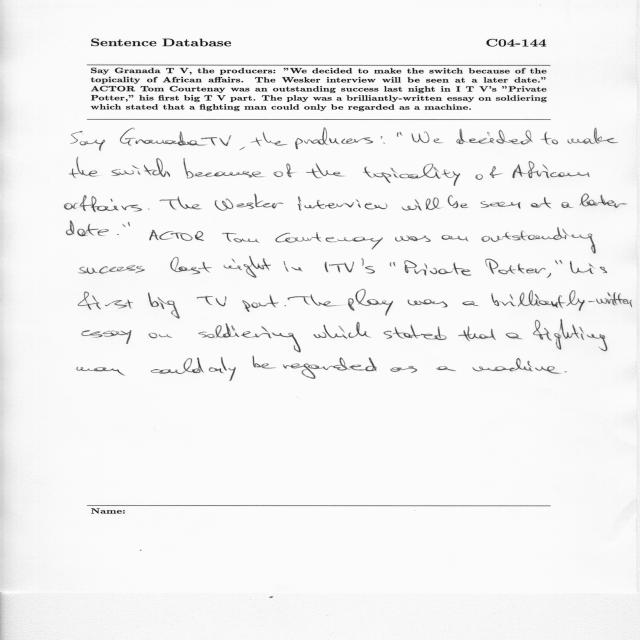word: (481, 227, 596, 254), (198, 323, 301, 353), (491, 290, 632, 311), (533, 319, 607, 351), (363, 163, 460, 186), (283, 357, 377, 379), (275, 232, 383, 249), (120, 128, 217, 146), (295, 128, 373, 149), (183, 158, 264, 178), (472, 358, 561, 374), (298, 196, 388, 211), (64, 195, 142, 212), (513, 161, 590, 178), (485, 259, 551, 278), (457, 129, 533, 145), (348, 289, 393, 316), (215, 194, 284, 211), (112, 158, 170, 177), (325, 258, 392, 274), (405, 260, 472, 276), (224, 256, 271, 278), (78, 292, 133, 310), (314, 322, 372, 339), (383, 325, 447, 340), (151, 357, 204, 374), (148, 293, 180, 319), (568, 128, 618, 144), (170, 257, 212, 274), (82, 330, 132, 344), (71, 131, 105, 151), (242, 294, 279, 312), (149, 229, 204, 241), (580, 194, 627, 208), (288, 294, 338, 307), (209, 357, 236, 381), (66, 221, 109, 236), (79, 265, 145, 274), (70, 157, 98, 178), (306, 164, 345, 179), (458, 326, 496, 341), (159, 197, 201, 210), (402, 198, 441, 211), (570, 261, 607, 274), (219, 135, 245, 150), (77, 367, 125, 375), (222, 233, 260, 243), (476, 166, 503, 180), (407, 299, 448, 308), (262, 132, 288, 146), (412, 132, 442, 143), (481, 201, 521, 209), (253, 356, 276, 369), (274, 164, 295, 178), (197, 296, 226, 306), (448, 195, 468, 208), (395, 235, 431, 242), (541, 132, 558, 145), (531, 197, 551, 208), (283, 261, 303, 272), (391, 366, 418, 373), (442, 235, 469, 241), (149, 333, 173, 338), (251, 138, 263, 147), (506, 333, 523, 339), (436, 366, 456, 371), (463, 301, 480, 306), (561, 202, 573, 208), (122, 222, 130, 227), (381, 136, 385, 144), (397, 132, 403, 137), (393, 262, 396, 266), (555, 260, 558, 264), (560, 260, 563, 264), (564, 372, 567, 373), (117, 234, 119, 235), (285, 305, 286, 306), (148, 209, 150, 209)
